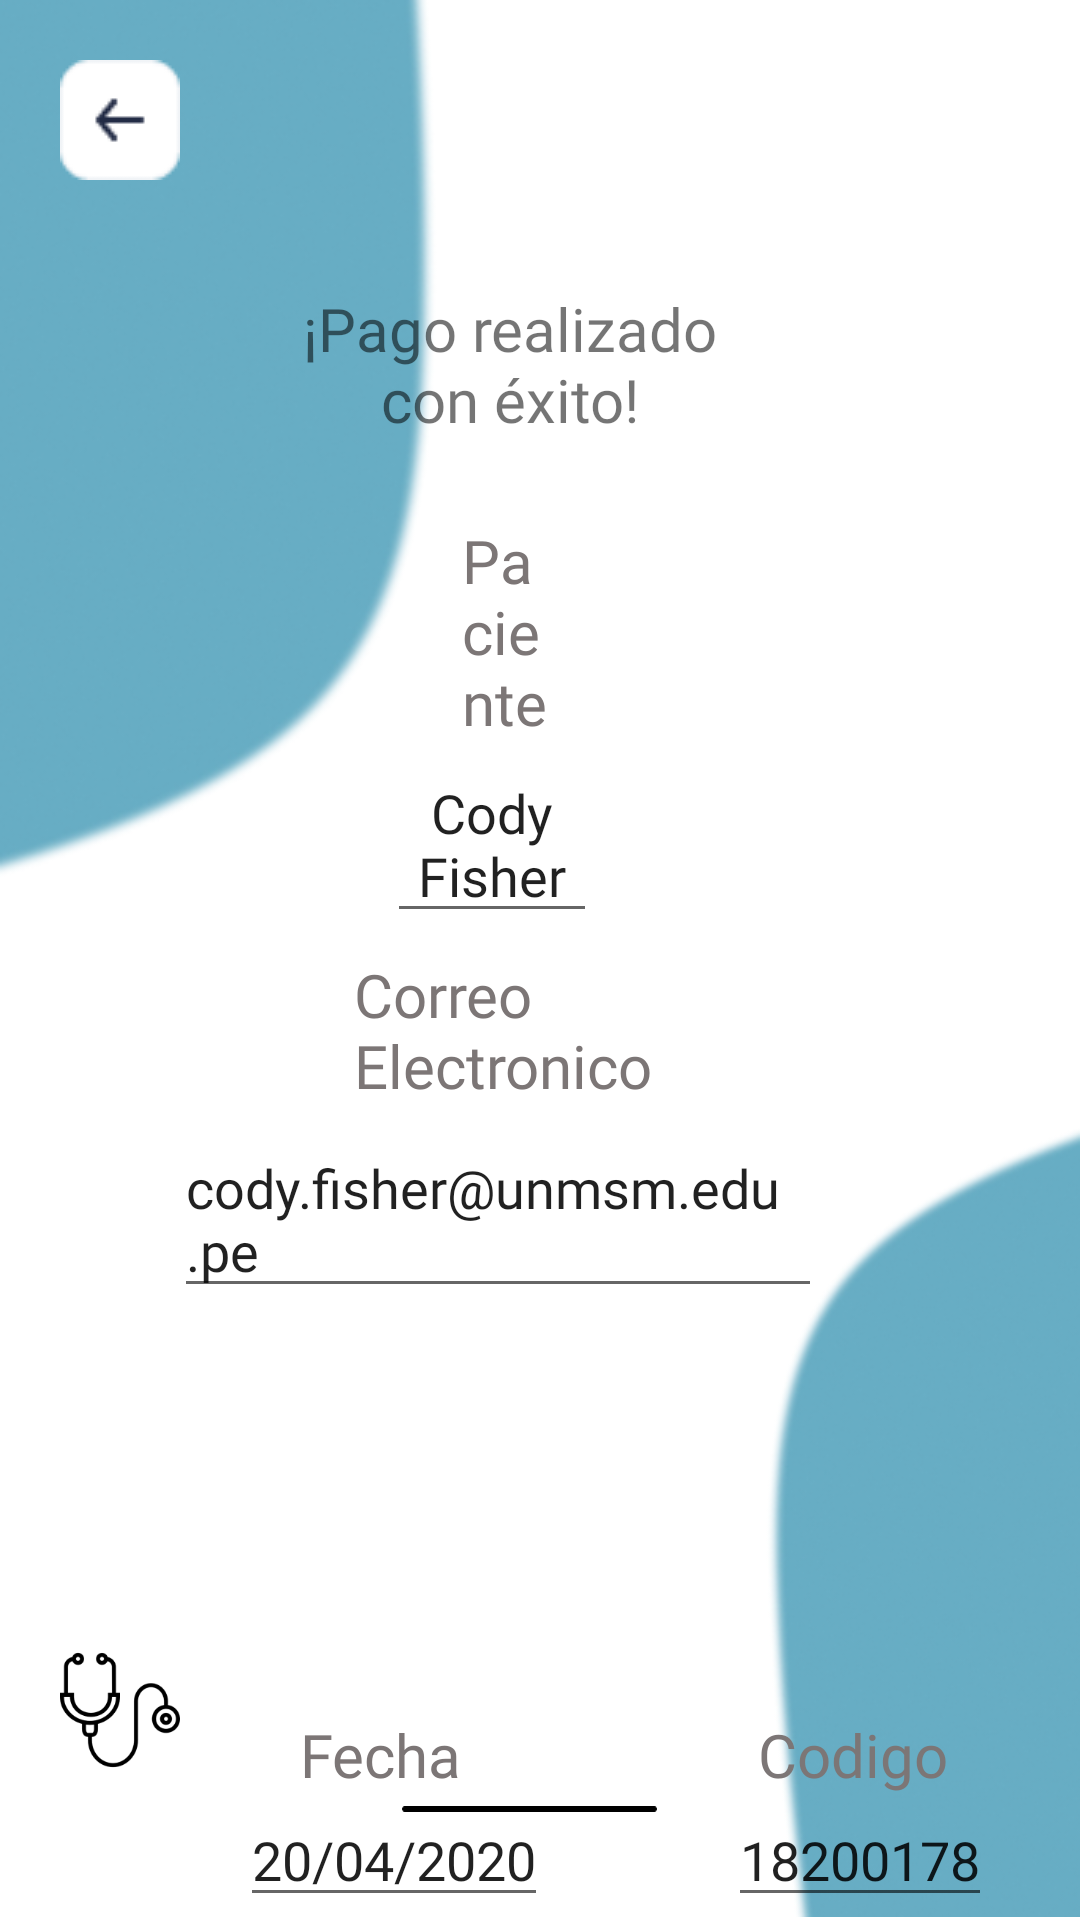

Point at icon controls on the screen. Image size 1080×1920, points as (x=x, y=y).
estetoscopio: (x=120, y=1710)
